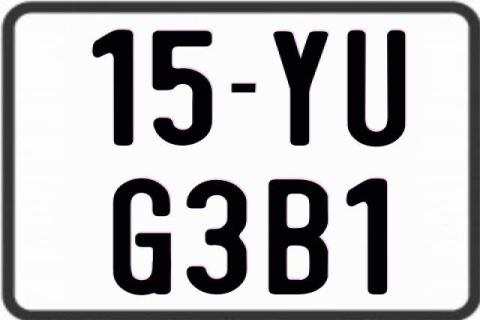0: (150, 28, 214, 145), (184, 178, 245, 294), (343, 176, 389, 294), (90, 27, 133, 147)
B: (269, 178, 328, 294)
G: (113, 178, 177, 300)
U: (344, 30, 403, 146)
Y: (273, 32, 333, 150)
